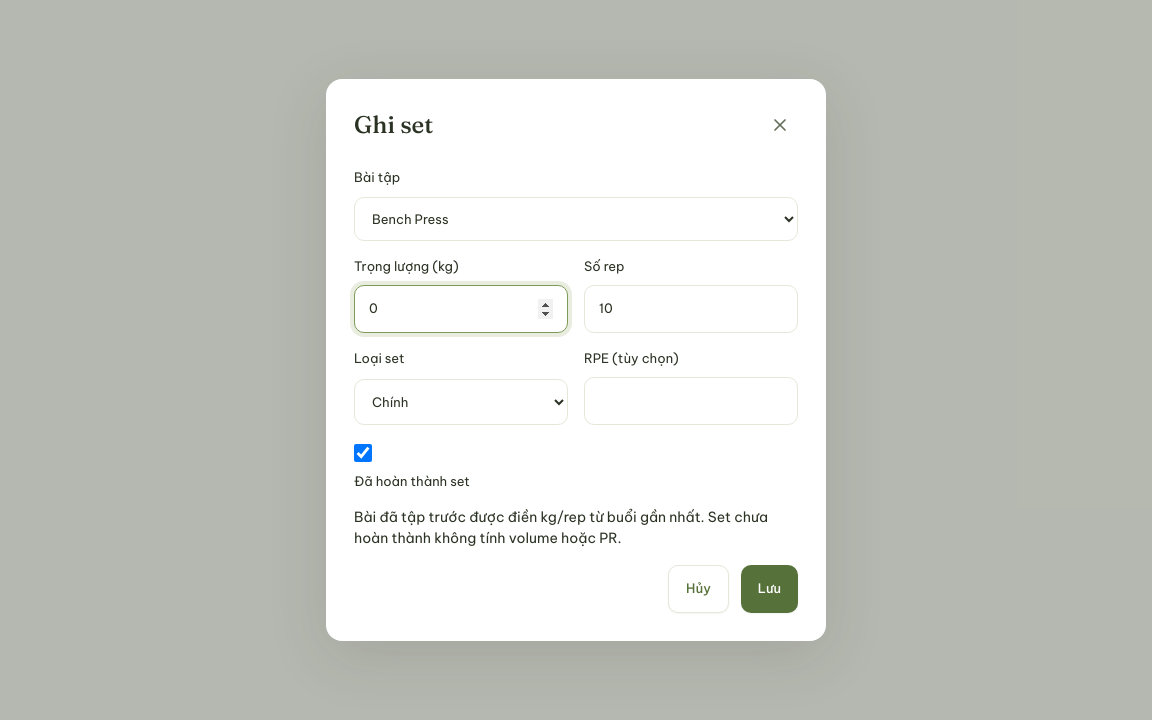
Test: late autofill does not overwrite user input
Replace the text in the number field labelled "Trọng lượng (kg)" with "90". click: (461, 309)
box: [354,285,568,333]
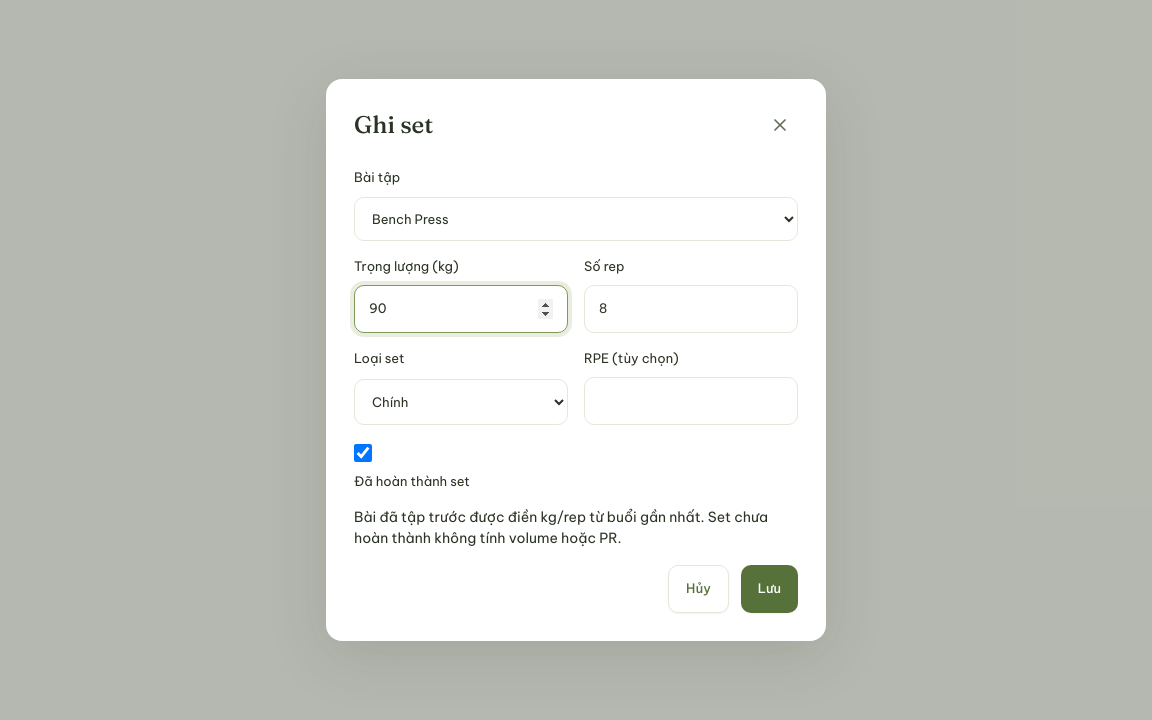
Result: the number field labelled "Số rep" holds "8" at [584,285,798,333]
